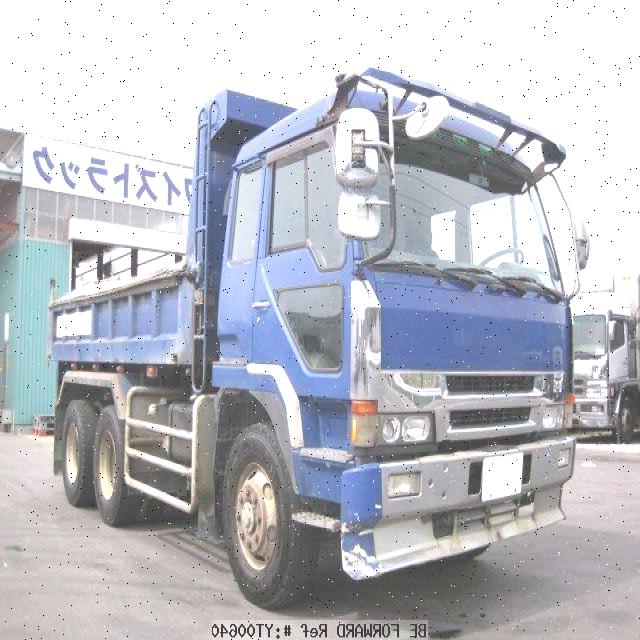truck: (46, 61, 588, 607)
